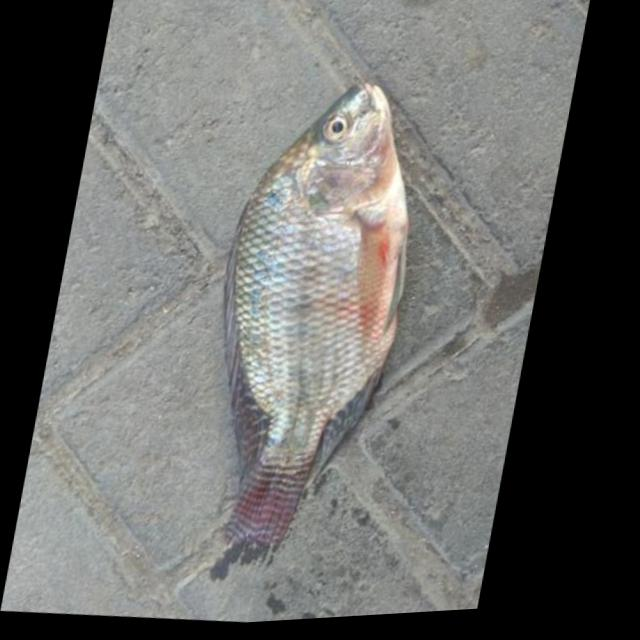Tilapia: (171, 62, 446, 565)
